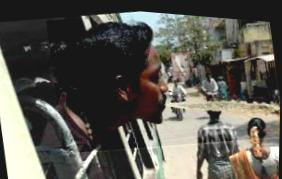spitting: (43, 3, 281, 168)
